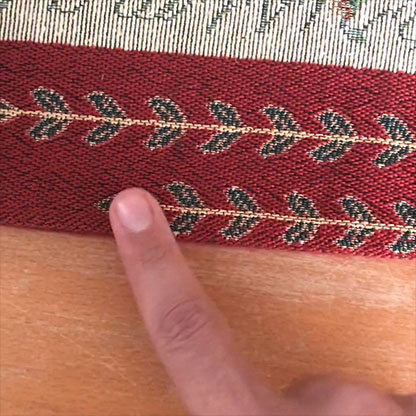fingertip: (96, 181, 174, 245)
